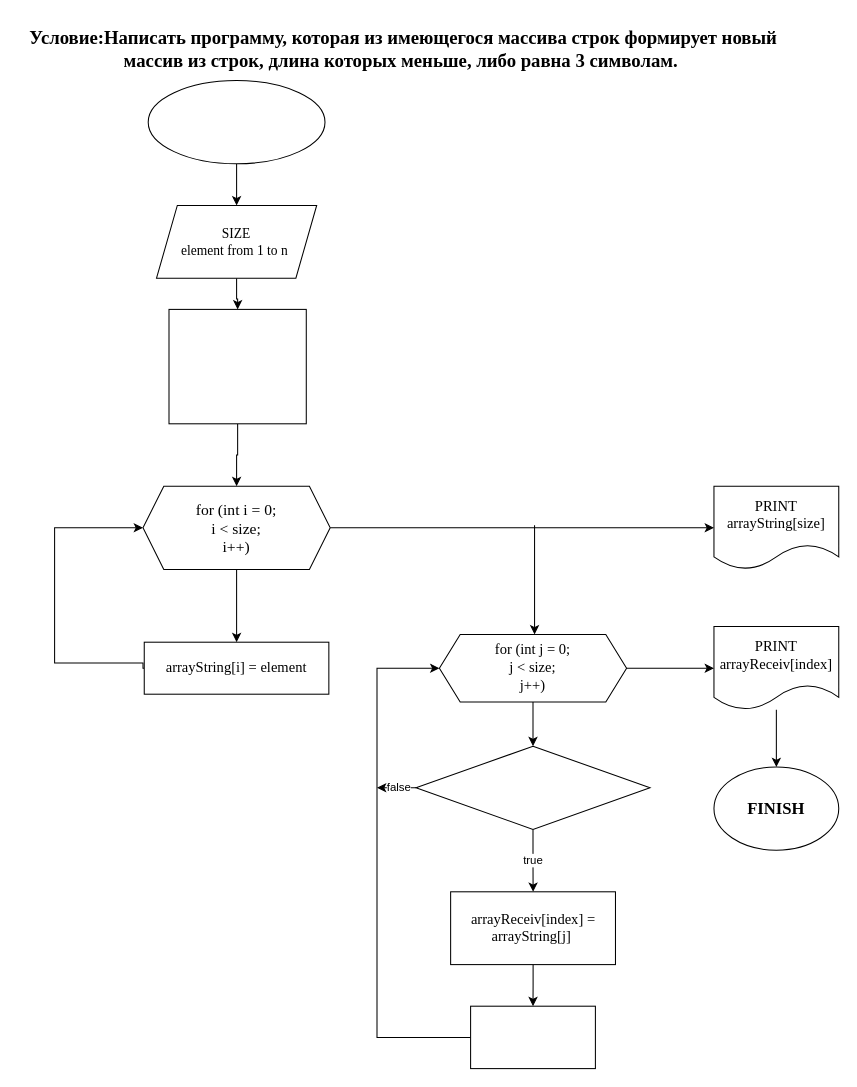
This 857x1087 diagram has some shape labels left out. Here are the shapes that lost their labels. From the top down, the centre of each, then its label:
At point (236, 122): "Start".
At point (237, 366): "length = 3 index = 0 arrayString[size] arrayReceiv[index] i=0 j=0".
At point (532, 787): "if (arrayString[j].Length <= length".
At point (532, 1037): "index++".
